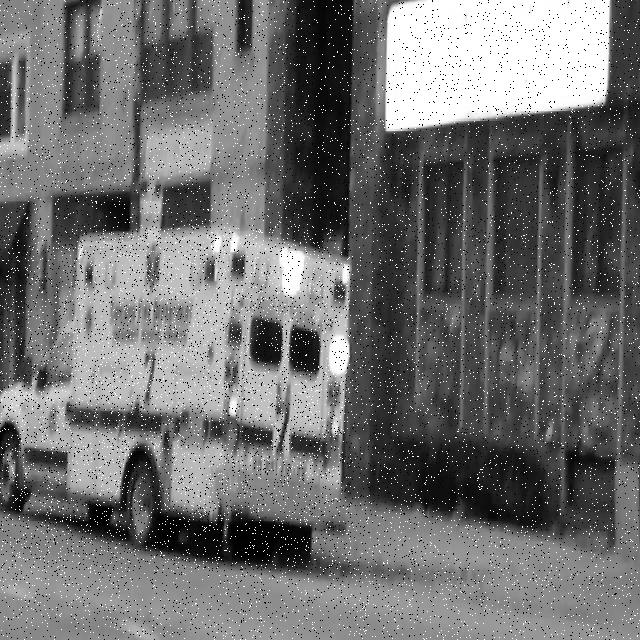Ambulance: (0, 227, 351, 571)
